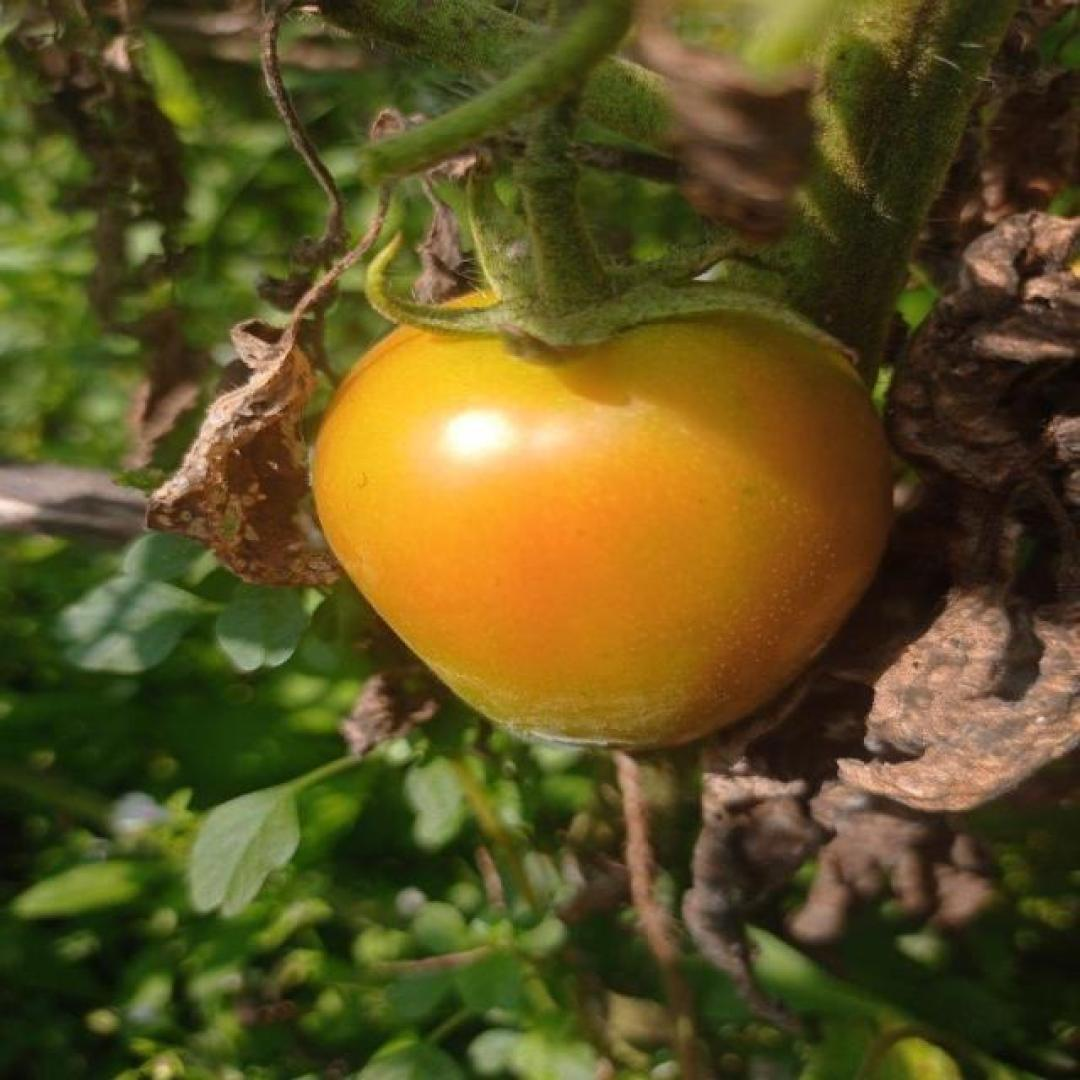setengah_matang: (309, 272, 896, 752)
